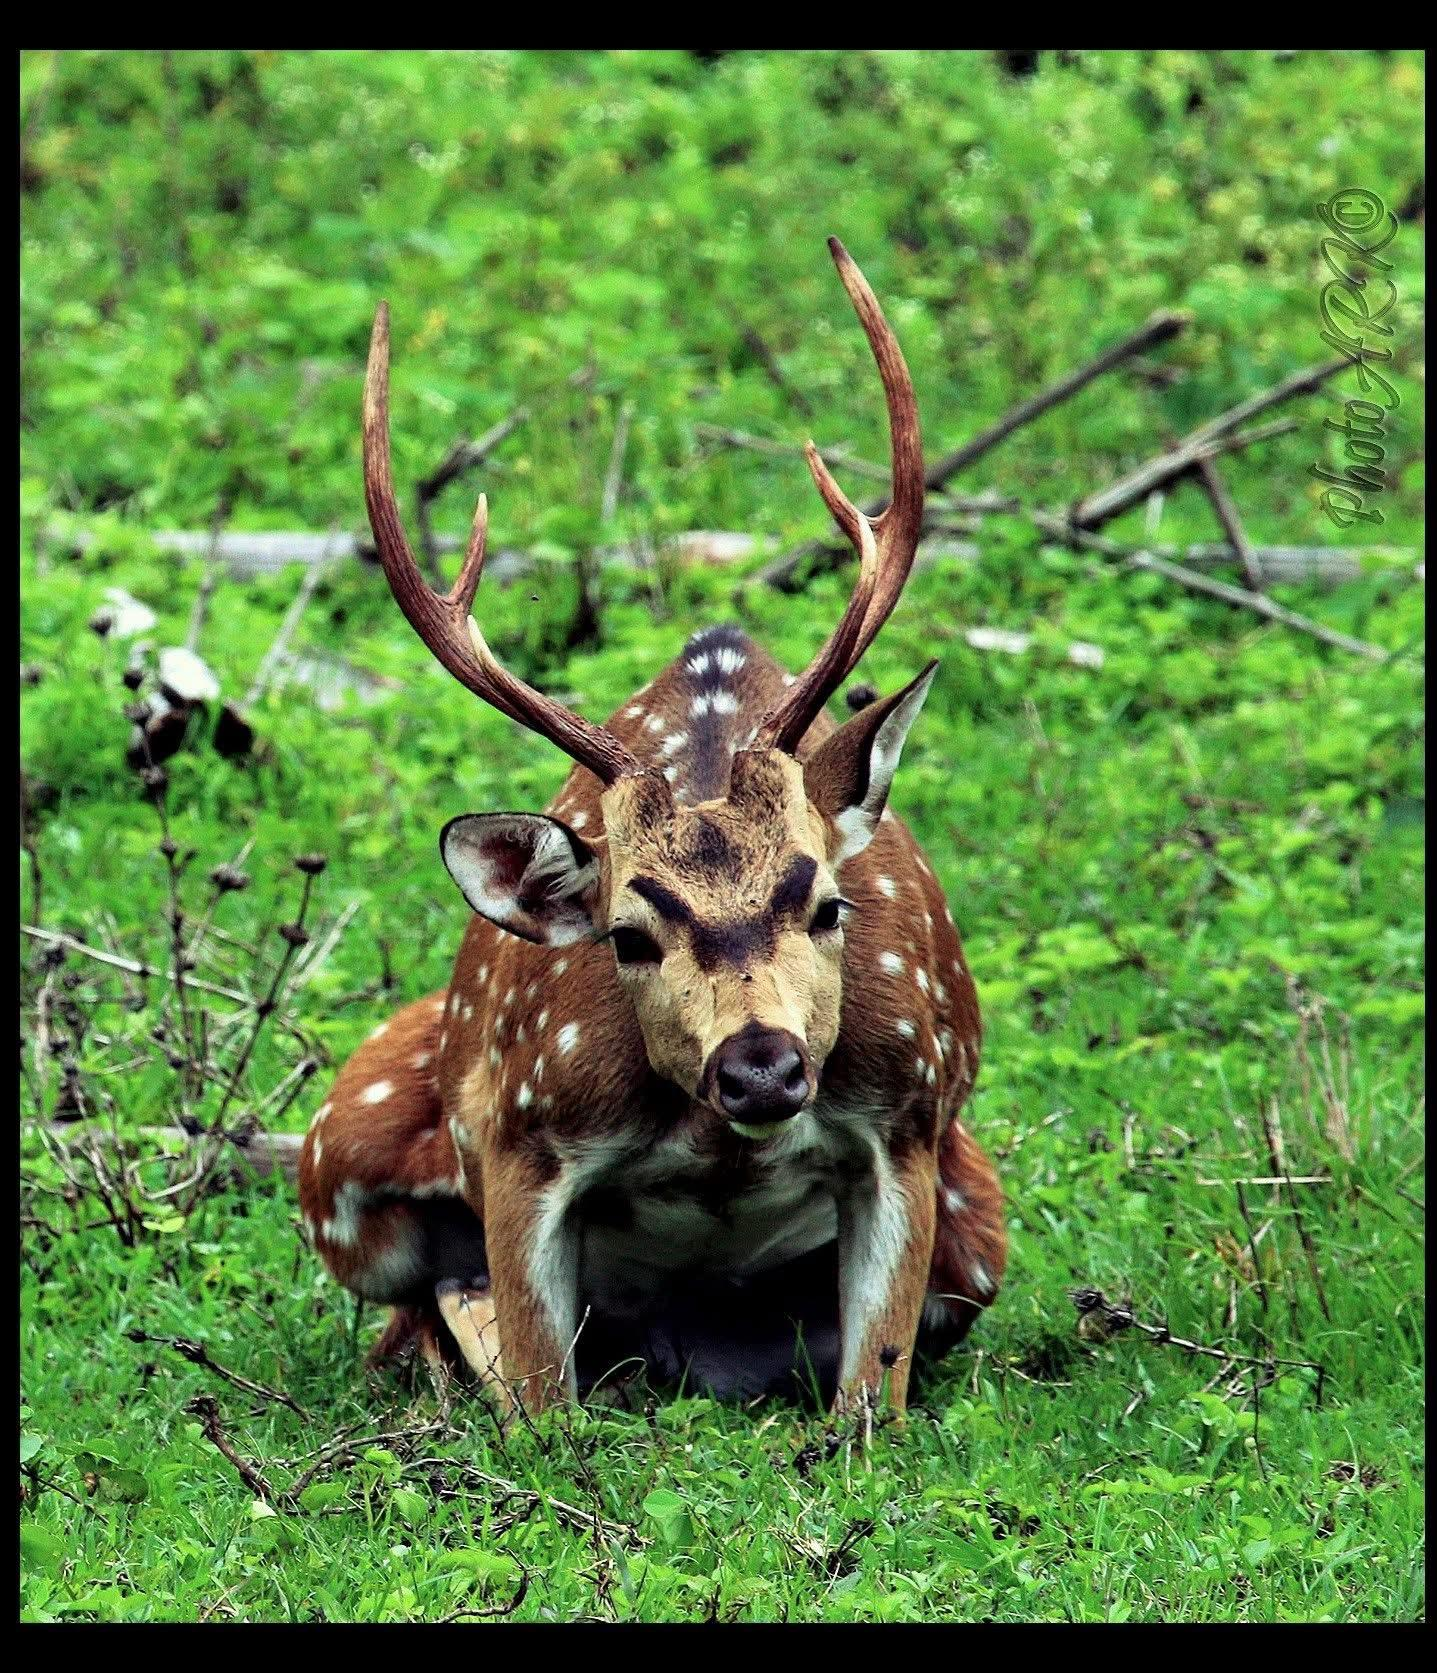Deer: (300, 242, 1004, 1408)
